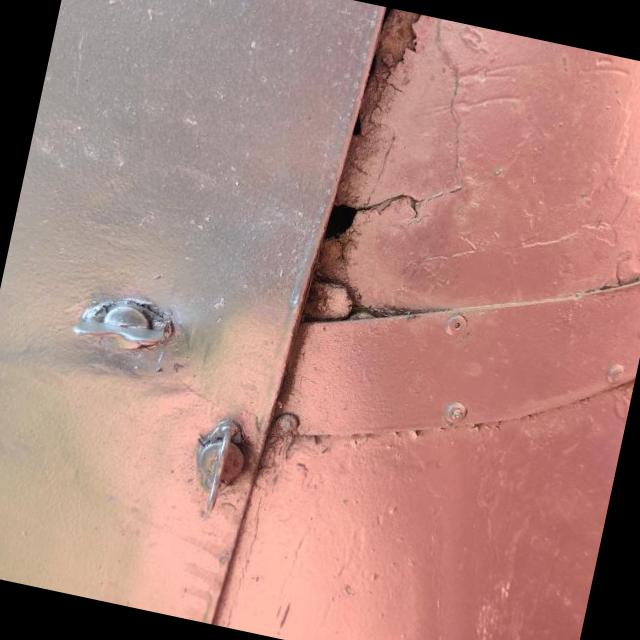Crack: (316, 193, 442, 283)
